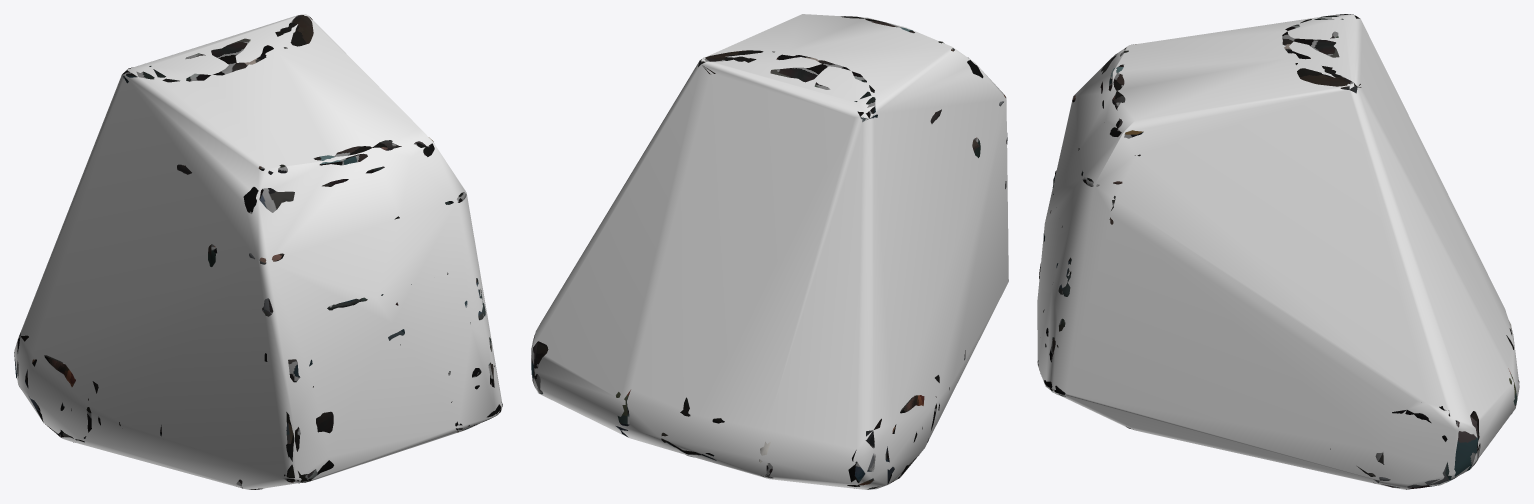
File: 01-prepared.glb
3 renders of one model, left to right at view 1: azimuth 30°, elevation 25°; view 2: azimuth 150°, elevation 25°; view 3: azimuth 270°, elevation 25°, orthographic. The views are drawn at different scales.
Parts seen in each view (by area): view 1: COL_Hull, Raw_Mesh_LOD0; view 2: COL_Hull, Raw_Mesh_LOD0; view 3: COL_Hull, Raw_Mesh_LOD0.
Part boxes in pixels (x1=…): COL_Hull: x1=14, y1=14, x2=502, y2=489; Raw_Mesh_LOD0: x1=14, y1=14, x2=502, y2=489; COL_Hull: x1=531, y1=14, x2=1008, y2=489; Raw_Mesh_LOD0: x1=531, y1=16, x2=1008, y2=489; COL_Hull: x1=1037, y1=15, x2=1519, y2=489; Raw_Mesh_LOD0: x1=1037, y1=14, x2=1519, y2=489.
Size of what is drawn, in the model's own units: 0.8506 by 0.8542 by 0.9995.
1 material, 1 textured.
